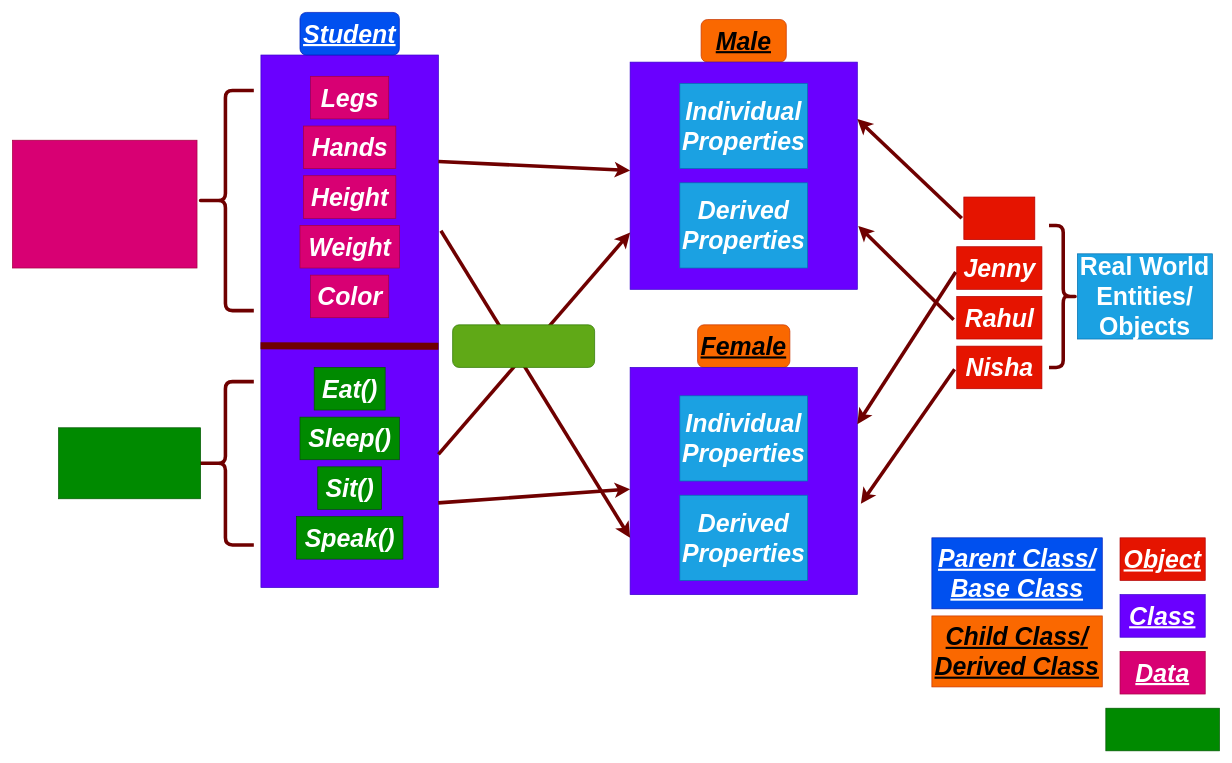
Image size: 1232x763. Some labels were removed from this diagram. Each missing label, with the box of its shape:
Function: (1105, 708, 1219, 751)
Functions/ Behaviour: (58, 427, 201, 499)
Inheritance: (452, 324, 595, 367)
Properties/ Attributes/ Data/ Data Members: (12, 140, 197, 268)
Ram: (963, 196, 1035, 240)
